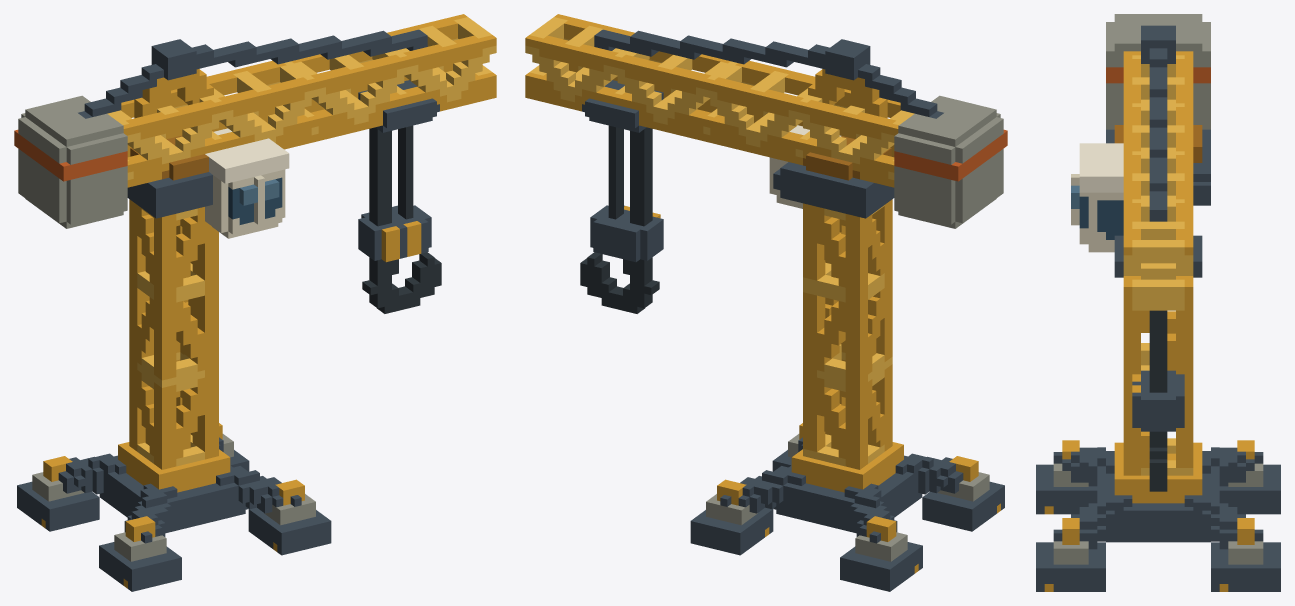
File: tower_crane.glb
The picture shows the model from 3 angles, left to right: view 1: azimuth 30°, elevation 25°; view 2: azimuth 150°, elevation 25°; view 3: azimuth 270°, elevation 25°; orthographic projection. The views are drawn at different scales.
Visible parts, largest first — view 1: tower_crane; view 2: tower_crane; view 3: tower_crane.
Boxes of the visible parts, x1,y1,x2,y2 form: tower_crane: (14, 14, 496, 591); tower_crane: (525, 14, 1007, 591); tower_crane: (1036, 14, 1280, 591).
Bounding box in the file's own units: 8.06 × 8.32 × 3.64.
